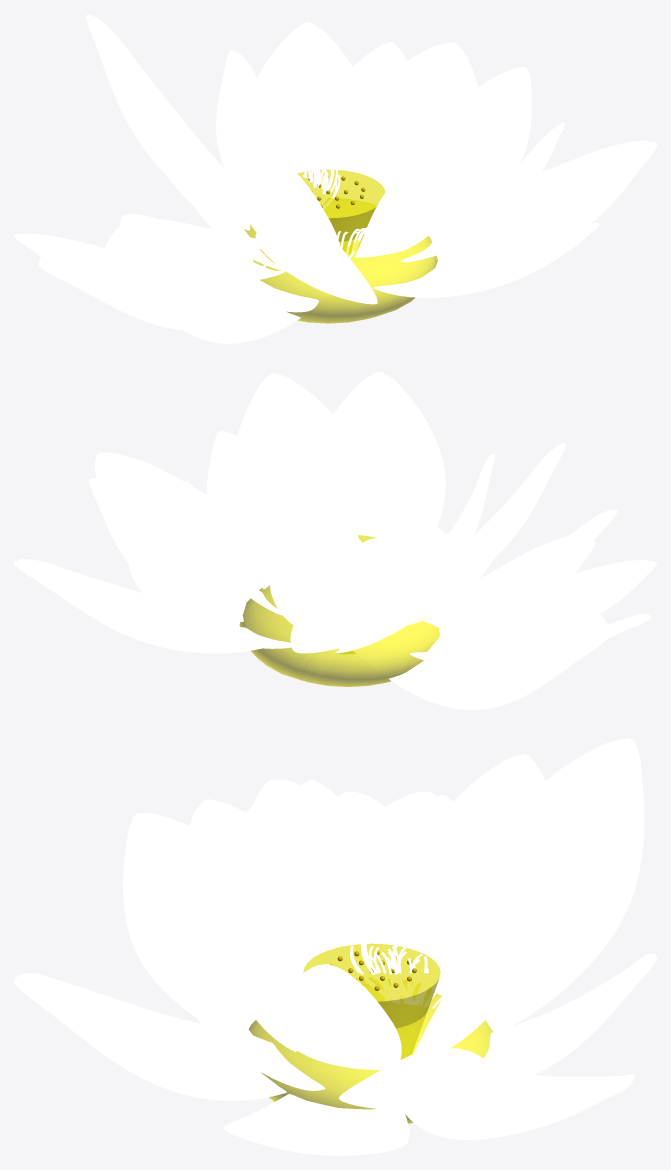
File: LOTOS.glb
The picture shows the model from 3 angles, top to bottom: view 1: azimuth 30°, elevation 25°; view 2: azimuth 150°, elevation 25°; view 3: azimuth 270°, elevation 25°; orthographic projection. The views are drawn at different scales.
Visible parts, largest first — view 1: Лофт_NURBS_1, Лофт_NURBS_2_3, Лофт_NURBS_4_3, Лофт_NURBS_1_2, Лофт_NURBS_3, Объект_Сфера, Лофт_NURBS_2_2, Лофт_NURBS_0_3, Лофт_NURBS_0, Лофт_NURBS_3_3, Лофт_NURBS_4_2, Лофт_NURBS_5_2 (+11 smaller); view 2: Лофт_NURBS_6_3, Лофт_NURBS_3, Лофт_NURBS_0_3, Лофт_NURBS_2_2, Лофт_NURBS_2, Лофт_NURBS_3_2, Объект_Сфера, Лофт_NURBS_1_3, Лофт_NURBS_6_2, Лофт_NURBS_4_3, Лофт_NURBS_3_3, Лофт_NURBS_0 (+9 smaller); view 3: Лофт_NURBS_0_3, Лофт_NURBS_4, Лофт_NURBS_4_2, Лофт_NURBS_3_3, Лофт_NURBS_6, Лофт_NURBS_2, Лофт_NURBS_0_2, Лофт_NURBS_2_3, Лофт_NURBS_0, Лофт_NURBS_1_3, Лофт_NURBS_1_2, Лофт_NURBS_2_2 (+10 smaller).
Boxes of the visible parts, bbox=[...] form: Лофт_NURBS_1: bbox=[314, 42, 426, 204]; Лофт_NURBS_2_3: bbox=[390, 141, 656, 268]; Лофт_NURBS_4_3: bbox=[102, 219, 330, 343]; Лофт_NURBS_1_2: bbox=[257, 22, 352, 181]; Лофт_NURBS_3: bbox=[352, 130, 464, 266]; Объект_Сфера: bbox=[244, 198, 437, 323]; Лофт_NURBS_2_2: bbox=[425, 67, 531, 234]; Лофт_NURBS_0_3: bbox=[86, 14, 256, 233]; Лофт_NURBS_0: bbox=[216, 50, 286, 198]; Лофт_NURBS_3_3: bbox=[357, 222, 599, 297]; Лофт_NURBS_4_2: bbox=[255, 217, 377, 304]; Лофт_NURBS_5_2: bbox=[173, 243, 322, 312]; Лофт_NURBS_6_3: bbox=[353, 597, 609, 709]; Лофт_NURBS_3: bbox=[318, 399, 418, 543]; Лофт_NURBS_0_3: bbox=[290, 538, 432, 653]; Лофт_NURBS_2_2: bbox=[89, 477, 288, 622]; Лофт_NURBS_2: bbox=[206, 431, 300, 593]; Лофт_NURBS_3_2: bbox=[237, 373, 340, 518]; Объект_Сфера: bbox=[239, 585, 439, 686]; Лофт_NURBS_1_3: bbox=[14, 559, 292, 653]; Лофт_NURBS_6_2: bbox=[384, 535, 594, 658]; Лофт_NURBS_4_3: bbox=[416, 560, 656, 629]; Лофт_NURBS_3_3: bbox=[333, 372, 445, 534]; Лофт_NURBS_0: bbox=[269, 509, 361, 624]; Лофт_NURBS_0_3: bbox=[415, 738, 644, 1046]; Лофт_NURBS_4: bbox=[220, 802, 346, 999]; Лофт_NURBS_4_2: bbox=[123, 813, 271, 1036]; Лофт_NURBS_3_3: bbox=[14, 973, 331, 1100]; Лофт_NURBS_6: bbox=[361, 795, 484, 979]; Лофт_NURBS_2: bbox=[274, 964, 401, 1070]; Лофт_NURBS_0_2: bbox=[404, 754, 568, 983]; Лофт_NURBS_2_3: bbox=[223, 1065, 409, 1155]; Лофт_NURBS_0: bbox=[417, 827, 537, 1040]; Лофт_NURBS_1_3: bbox=[404, 1074, 634, 1139]; Лофт_NURBS_1_2: bbox=[451, 954, 656, 1084]; Лофт_NURBS_2_2: bbox=[339, 1048, 502, 1109].
Bounding box in the file's own units: 952 × 374 × 758.
